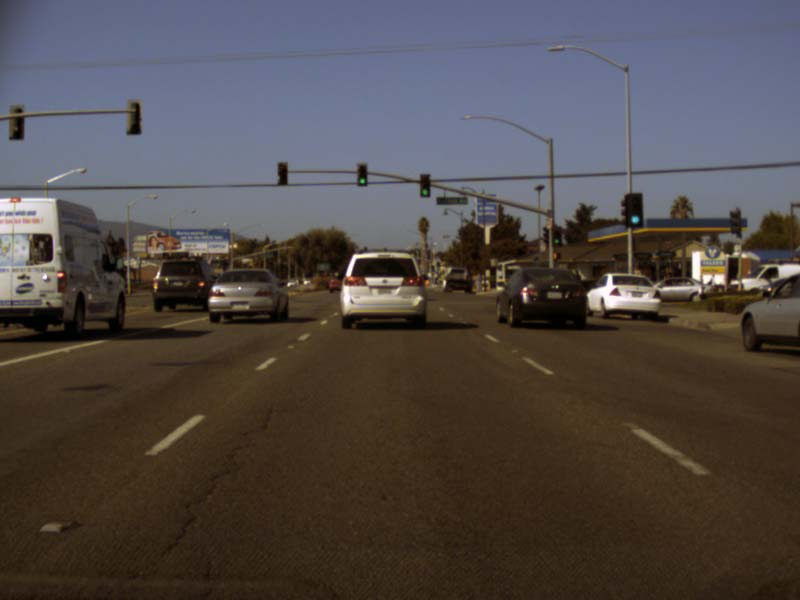Green: (627, 193, 641, 226), (419, 174, 431, 198), (356, 162, 367, 187), (553, 226, 560, 244)
Red: (278, 162, 288, 185)
